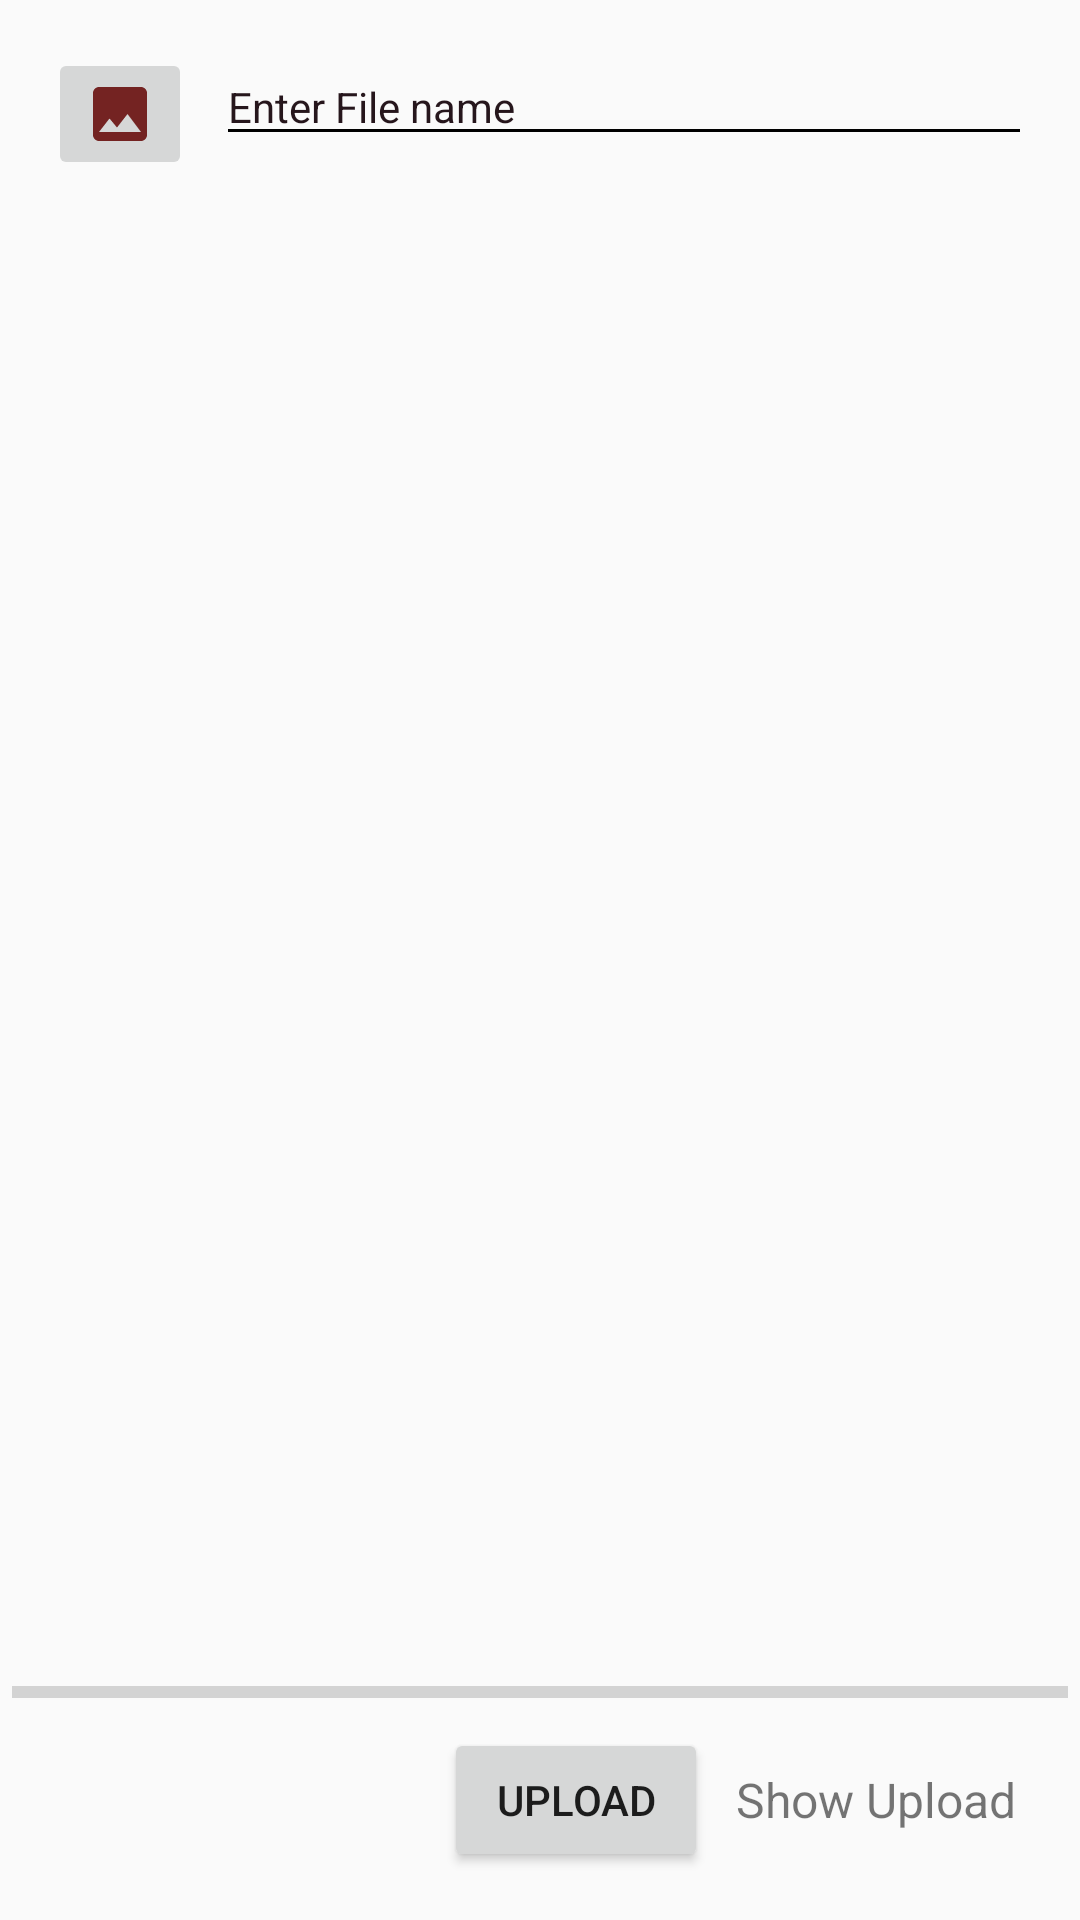

Icon click points for this 1080*1920 phone screenshot, format (x,y):
photo: (120,114)
